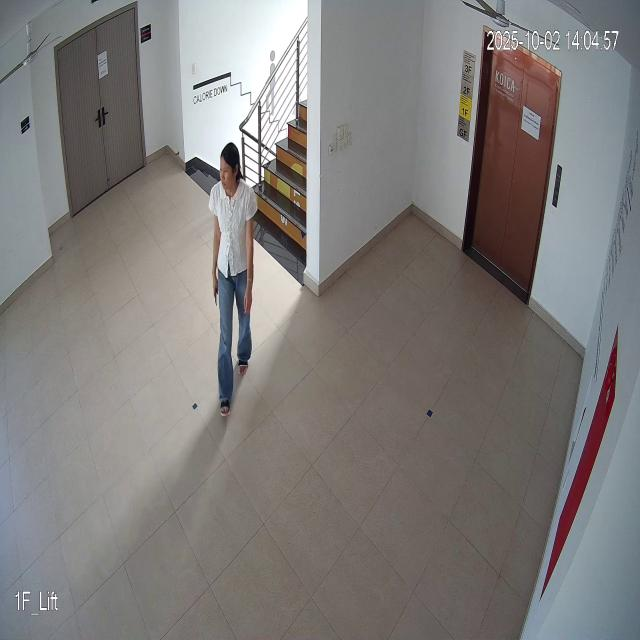face: (216, 142, 244, 201)
